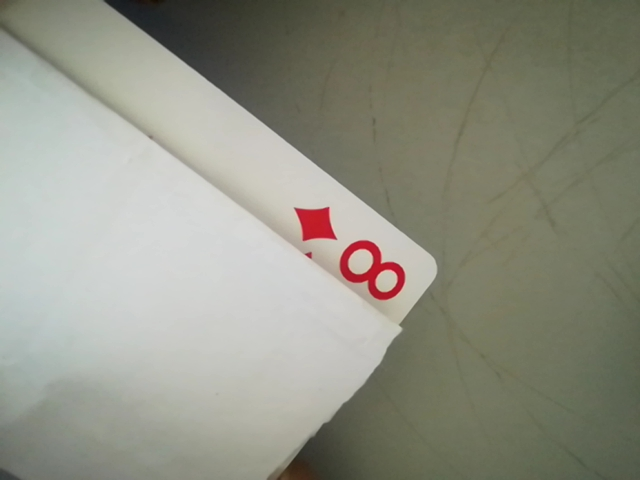fk 8: (289, 201, 427, 314)
